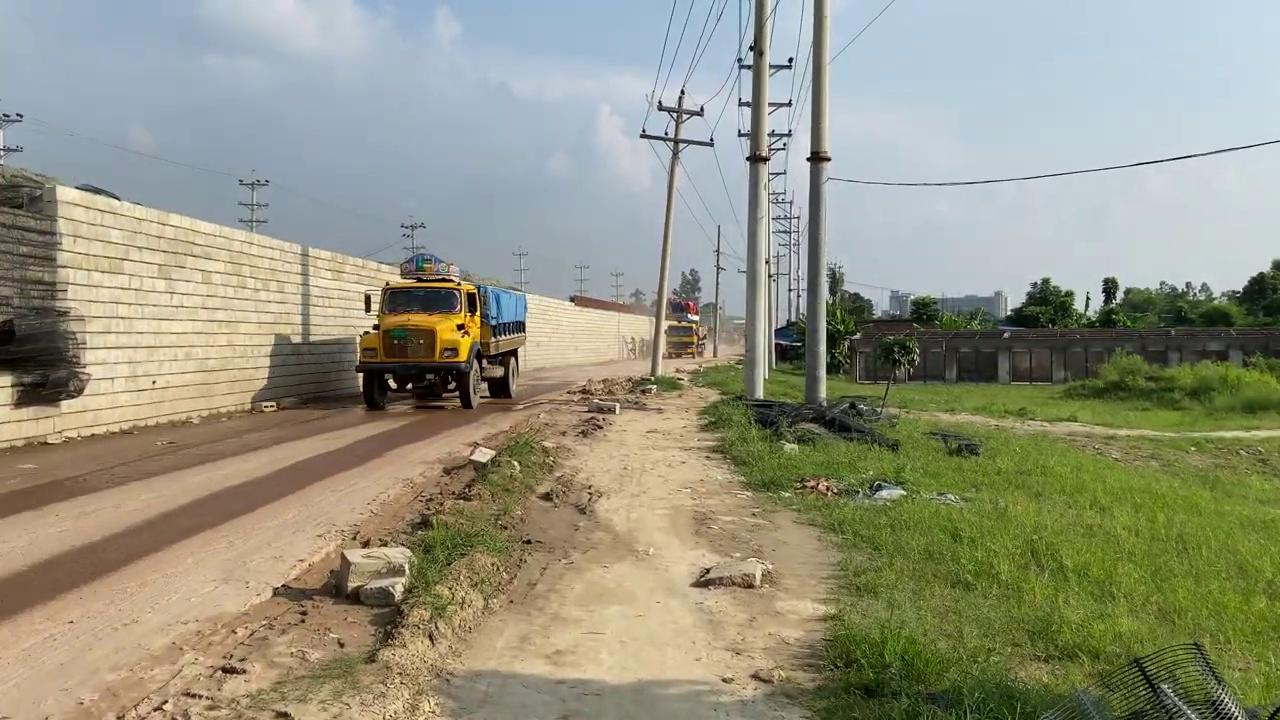Muddy road: (0, 346, 745, 718)
Obstacle: (335, 544, 414, 606), (467, 444, 496, 474), (586, 397, 620, 414)
Pole: (639, 88, 714, 379), (742, 0, 772, 401), (803, 1, 830, 406)
Rickshaw: (424, 360, 842, 718)
Tree: (354, 251, 527, 410), (664, 294, 707, 358)
Upstairs: (0, 177, 688, 449)
